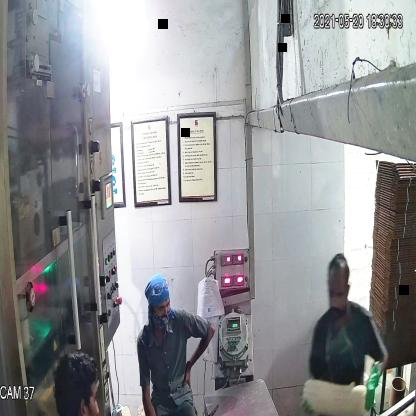no_goggles: (147, 298, 172, 319)
